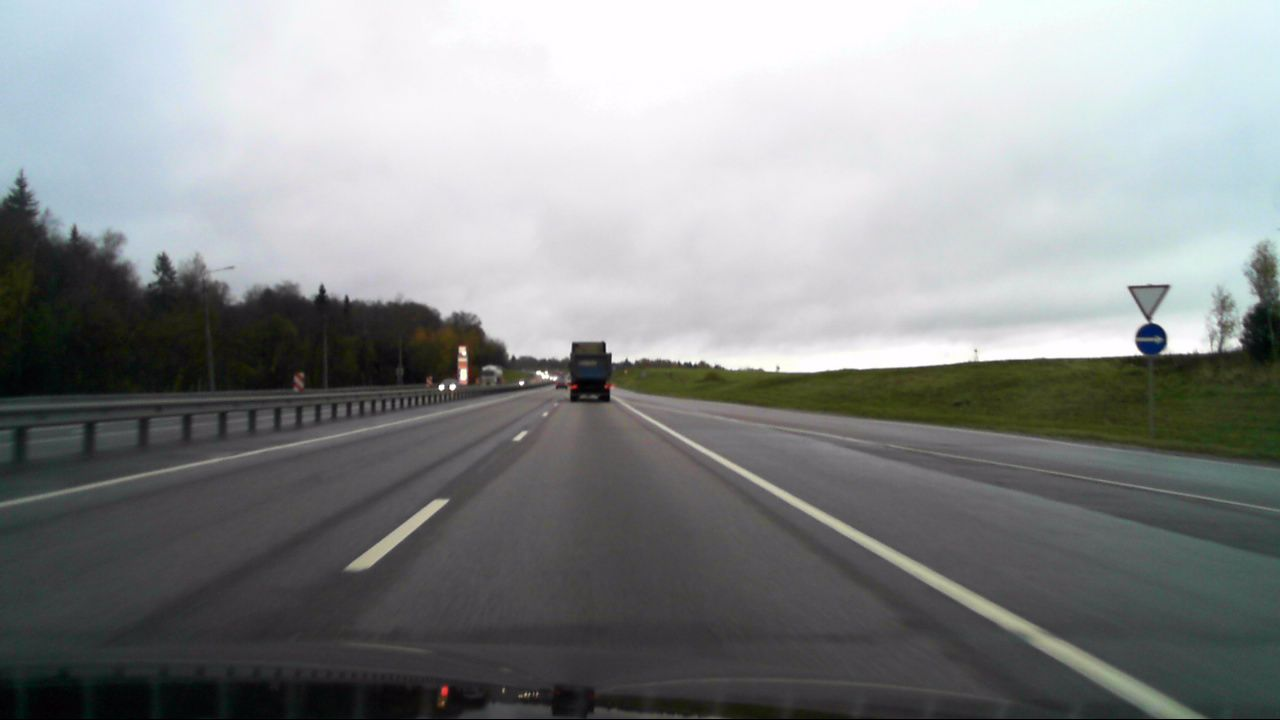Turn Right: (1135, 323, 1167, 356)
